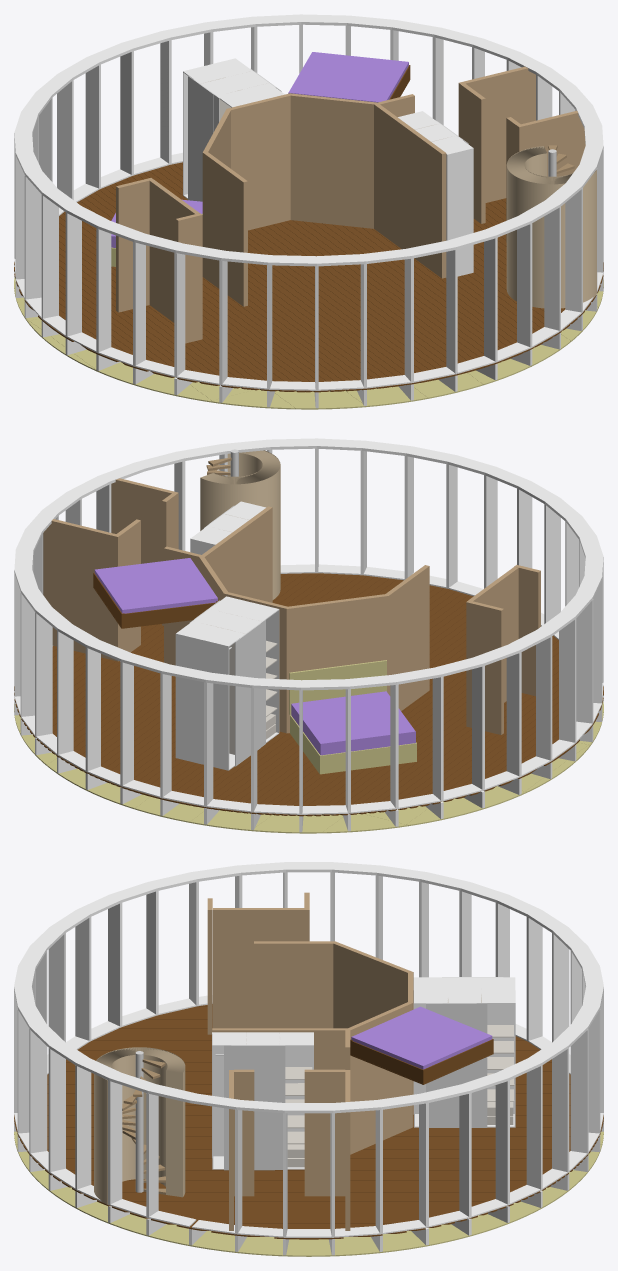
File: casa_e_mobili.glb
The picture shows the model from 3 angles, top to bottom: view 1: azimuth 30°, elevation 25°; view 2: azimuth 150°, elevation 25°; view 3: azimuth 270°, elevation 25°; orthographic projection.
Parts seen in each view (by area): view 1: Cube.003, Cube.004, Strohballenwand, Cube, Cube.001, Cube.009, Matratze.003, Cube.007, Cube.006, Seite_R.002, Cube.012, Schiebetuer_R.001 (+40 smaller); view 2: Cube.002, Cube.009, Matratze.001, Matratze.003, Strohballenwand, Cube.001, Cube.004, Cube.006, Cube.012, Seite_L, Schiebetuer_R.001, Seite_R.001 (+52 smaller); view 3: Strohballenwand, Cube.001, Cube.007, Cube.002, Matratze.003, Cube.010, Cube.003, Schiebetuer_R.002, Schiebetuer_R, Wandstiel_022, Wandstiel_037, Wandstiel_023 (+52 smaller).
Boxes of the visible parts, x1,y1,x2,y2 form: Cube.003: (289,93,377,228); Cube.004: (374,103,446,278); Strohballenwand: (506,146,596,308); Cube: (227,93,291,230); Cube.001: (202,152,247,306); Cube.009: (458,66,535,202); Matratze.003: (288,52,408,102); Cube.007: (149,179,199,322); Cube.006: (116,178,153,312); Seite_R.002: (447,148,473,276); Cube.012: (516,110,585,176); Schiebetuer_R.001: (188,75,213,201); Cube.002: (286,594,388,733); Cube.009: (43,519,120,661); Matratze.001: (291,691,415,755); Matratze.003: (94,558,217,613); Strohballenwand: (200,450,280,599); Cube.001: (385,565,429,710); Cube.004: (200,506,272,602); Cube.006: (466,600,503,734); Cube.012: (111,478,178,563); Seite_L: (175,633,202,763); Schiebetuer_R.001: (235,623,260,766); Seite_R.001: (202,640,229,770); Strohballenwand: (94,1047,185,1204); Cube.001: (254,941,335,1028); Cube.007: (213,908,304,1028); Cube.002: (332,941,413,1094); Matratze.003: (351,1006,492,1069); Cube.010: (304,1069,345,1196); Cube.003: (347,1002,413,1154); Schiebetuer_R.002: (224,1045,274,1170); Schiebetuer_R: (426,1003,476,1127); Wandstiel_022: (29,1029,47,1153); Wandstiel_037: (570,1029,588,1153); Wandstiel_023: (48,1048,65,1172).
Size of the model in its own units: 11.6 by 3.4 by 11.6.
